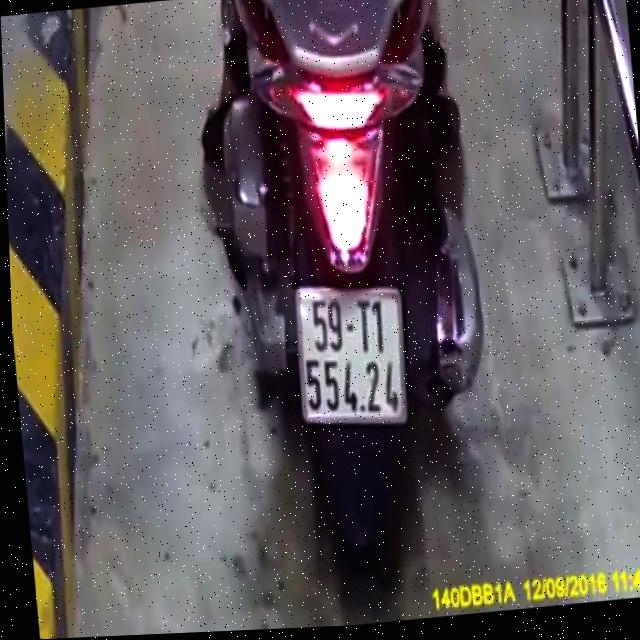motorcycle: (182, 0, 519, 607)
plate: (283, 269, 425, 441)
